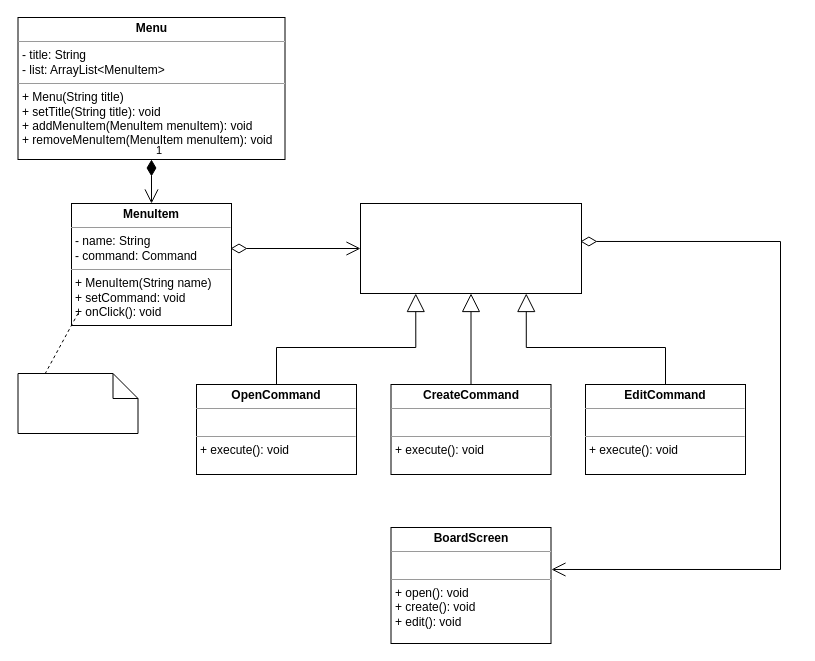
This 815x661 diagram has some shape labels left out. Here are the shapes that lost their labels. From the top down, the centre of each, then its label:
At [471,248]: "Command {abstract} # boardScreen: BoardScreen + execute(): void".
At [77,403]: "command.execute();".
